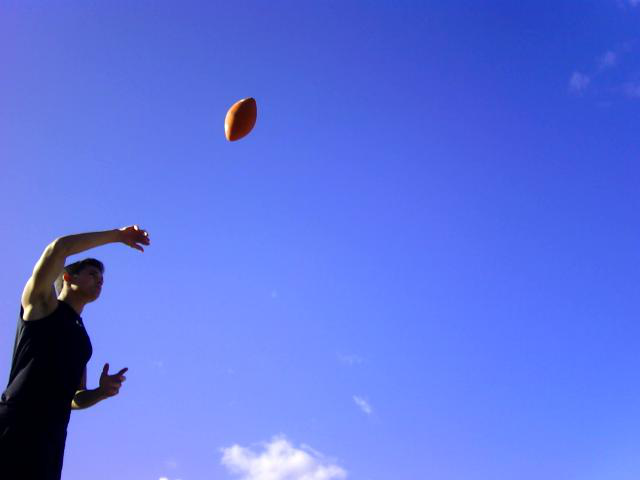football: (223, 97, 259, 141)
